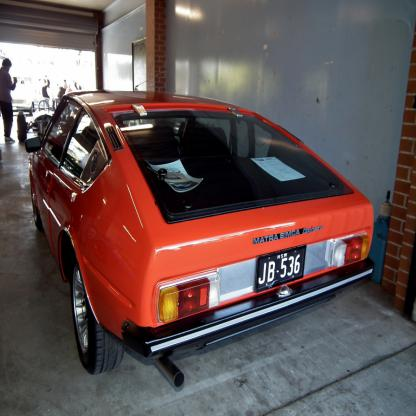Car: (24, 69, 374, 393)
